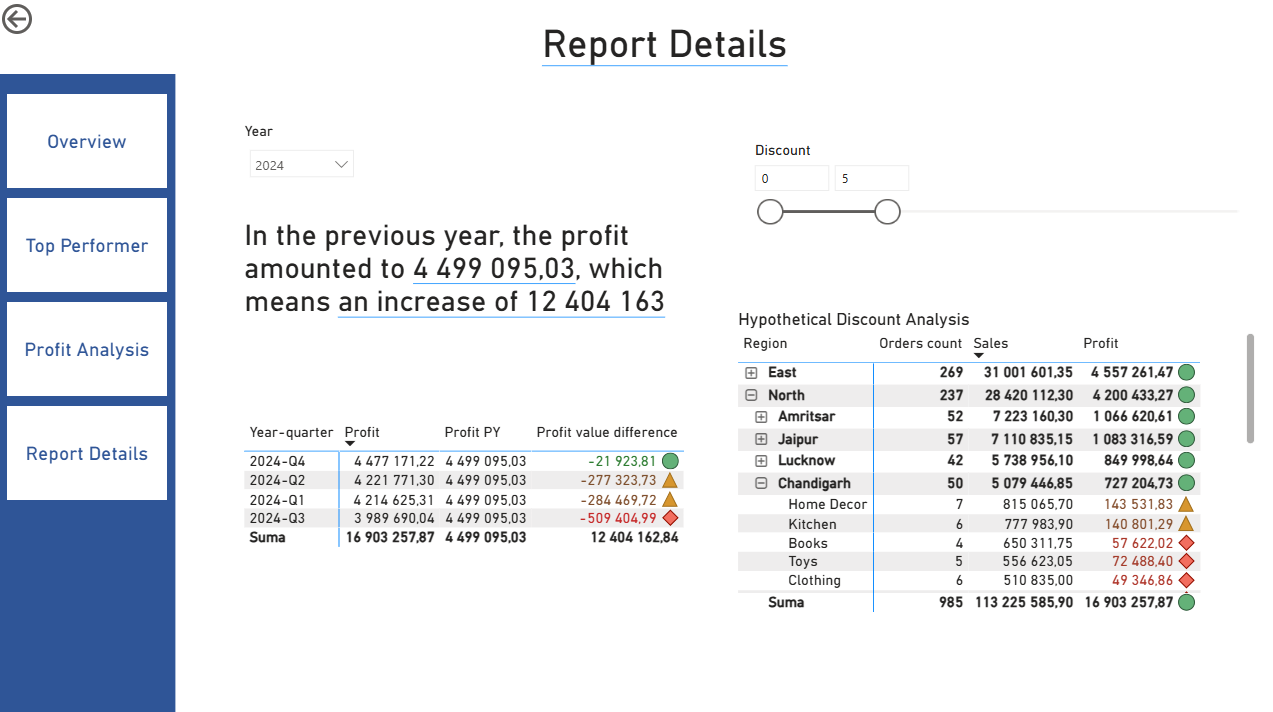

The dashboard page shown, as its layout file describes it:
{"tool":"powerbi","page":{"name":"Report Details","canvas":[1280,720],"ordinal":3},"visuals":[{"type":"textbox","box":[0,74.7,178.1,645.3],"z":0,"group":"g3"},{"type":"pivotTable","title":"Hypothetical Discount Analysis","fields":{"Rows":["Ecommerce_Sales_Data_2024_2025.Region Hierarchia.Region","Ecommerce_Sales_Data_2024_2025.Region Hierarchia.City","Ecommerce_Sales_Data_2024_2025.Region Hierarchia.Category"],"Values":["# Miary.# Orders count","# Miary.$ Sales","Sum(Ecommerce_Sales_Data_2024_2025.Profit)"]},"box":[736.8,309.7,526.5,308.1],"z":0},{"type":"slicer","title":"Year","fields":{"Values":["Kalendarz.Year"]},"box":[242.4,123.4,124.7,83.6],"z":1000},{"type":"textbox","box":[242.5,214.1,440.1,140.2],"z":2000},{"type":"pivotTable","fields":{"Values":["# Miary.$ Total profit","# Miary.$ Profit PY","# Miary.$ Profit value difference"],"Rows":["Kalendarz.Year-quarter"]},"box":[242.5,417.5,460,186.2],"z":3000},{"type":"textbox","box":[233.5,17.4,867.9,75.7],"z":4000},{"type":"slicer","fields":{"Values":["Ecommerce_Sales_Data_2024_2025.Discount"]},"box":[745,136.9,518.4,172.8],"z":5000},{"type":"actionButton","box":[0,0,100,40],"z":6000},{"type":"group","id":"g1","title":"Grupa 1","box":[0,74.7,178.1,645.3],"z":6001},{"type":"group","id":"g2","title":"Grupa 2","box":[0,74.7,178.1,645.3],"z":8001,"group":"g1"},{"type":"group","id":"g3","title":"Grupa 3","box":[0,74.7,178.1,645.3],"z":8001,"group":"g2"},{"type":"pageNavigator","box":[9.4,95,160.9,409.4],"z":9000,"group":"g3"}]}

Visuals, with their boxes in screenshot pixels (x1, y1, x2, y2), scaled from the page's 1280x720 canvas onto the 1273x712 screenshot:
textbox: region(0, 74, 177, 711)
"Hypothetical Discount Analysis" pivotTable: region(733, 306, 1256, 611)
"Year" slicer: region(241, 122, 365, 205)
textbox: region(241, 212, 679, 350)
pivotTable - # Miary.$ Total profit x # Miary.$ Profit PY: region(241, 413, 699, 597)
textbox: region(232, 17, 1095, 92)
slicer - Ecommerce_Sales_Data_2024_2025.Discount: region(741, 135, 1256, 306)
actionButton: region(0, 0, 99, 40)
"Grupa 1" group: region(0, 74, 177, 711)
"Grupa 2" group: region(0, 74, 177, 711)
"Grupa 3" group: region(0, 74, 177, 711)
pageNavigator: region(9, 94, 169, 499)
